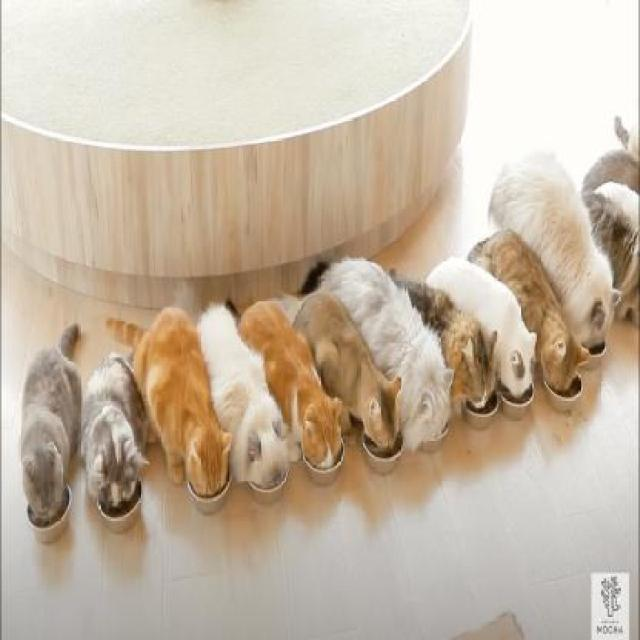cat: (307, 257, 453, 452), (489, 152, 620, 356), (106, 303, 231, 497), (470, 228, 582, 400), (293, 290, 401, 456), (241, 295, 342, 470), (198, 303, 290, 486), (427, 255, 535, 399), (391, 270, 495, 415), (20, 312, 80, 525), (82, 356, 152, 510), (591, 182, 637, 333)
